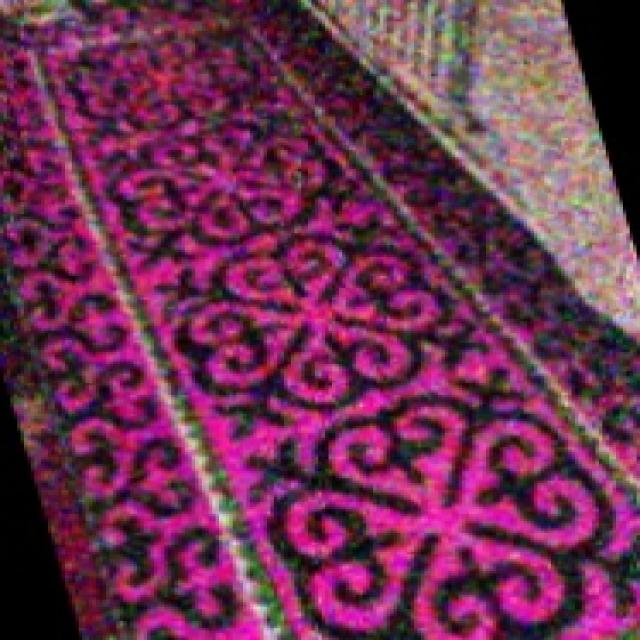Unity: (232, 361, 637, 638), (139, 218, 492, 455), (86, 101, 374, 274)
